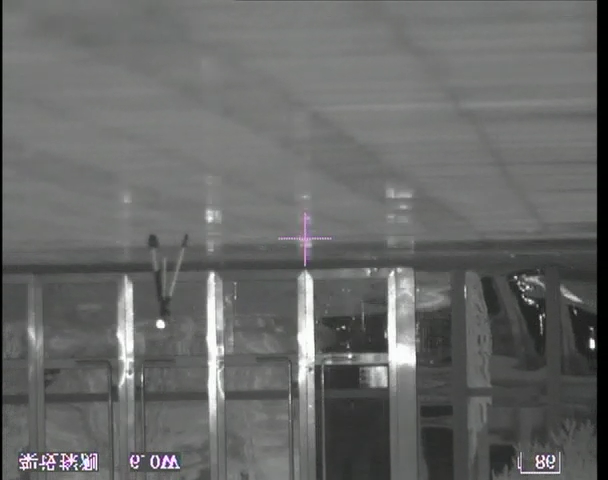my: (155, 318, 166, 330)
